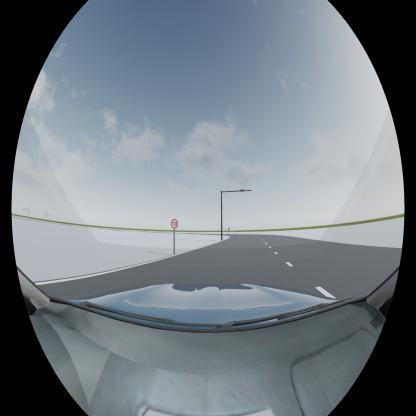Red Light: (240, 189, 246, 192)
Speed Limit 110: (171, 219, 178, 229)
